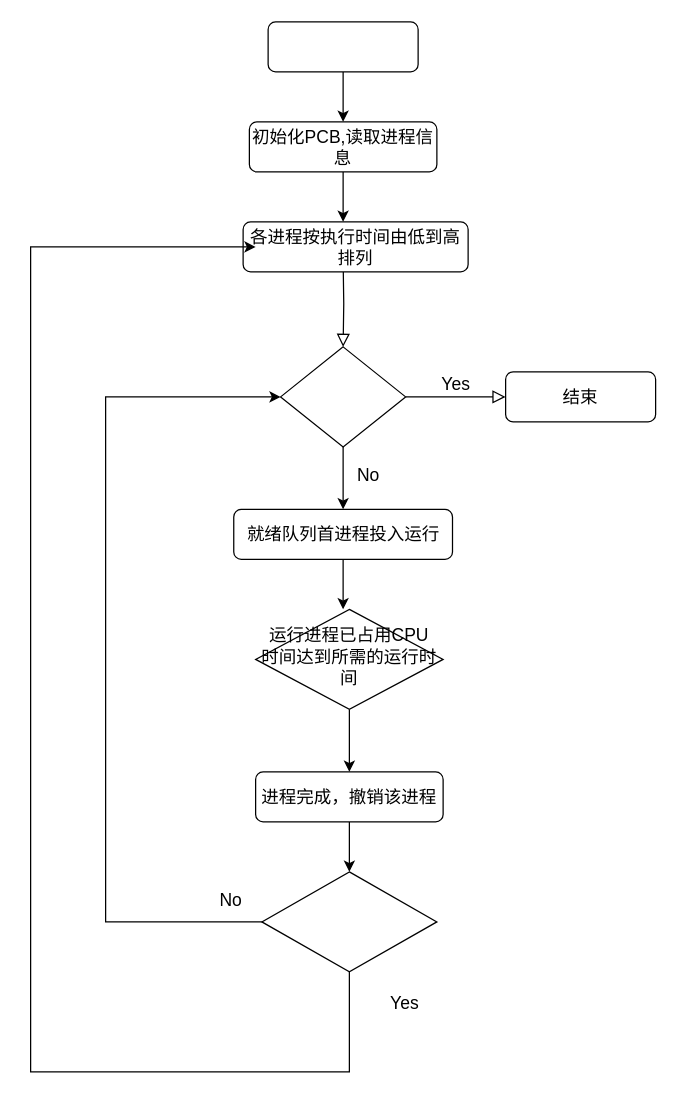
The diagram is 678 pixels wide and 1104 high, and some of its shapes have lost their labels. The box of each missing label's shape, as (x1, y1, x2, y2) in pixels:
就绪队列空？: (279, 346, 406, 447)
开始: (267, 21, 418, 72)
是否有新进程到达: (261, 871, 437, 972)
